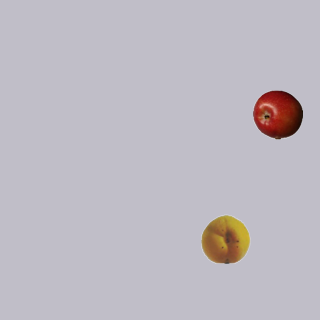Apple Braeburn: (252, 89, 302, 139)
Peach 2: (200, 213, 250, 263)
